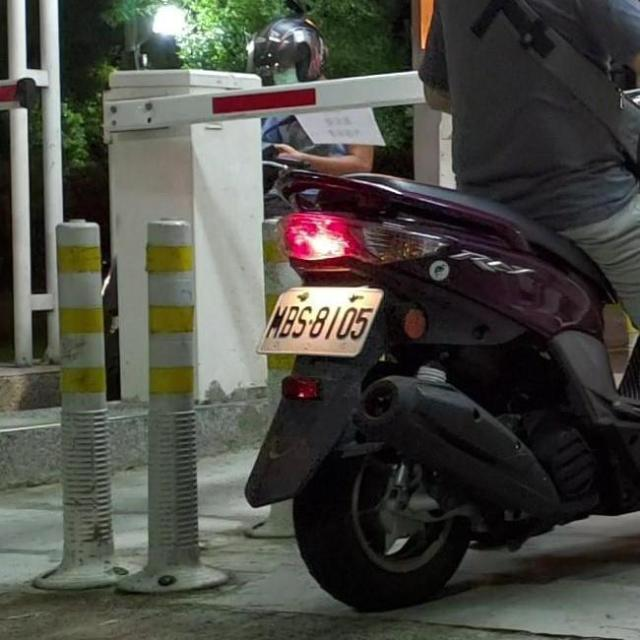W: (257, 273, 388, 363)
